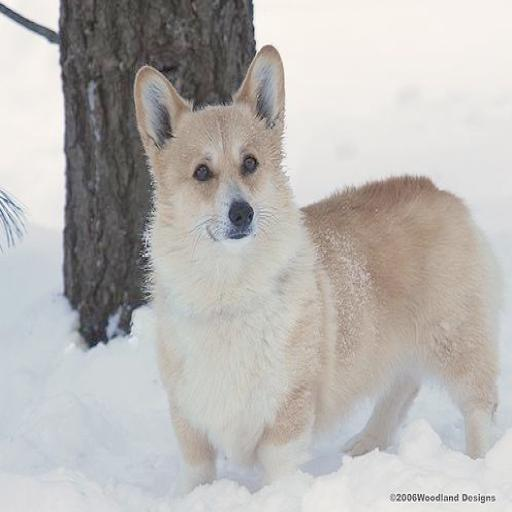dog_face: (134, 54, 284, 248)
